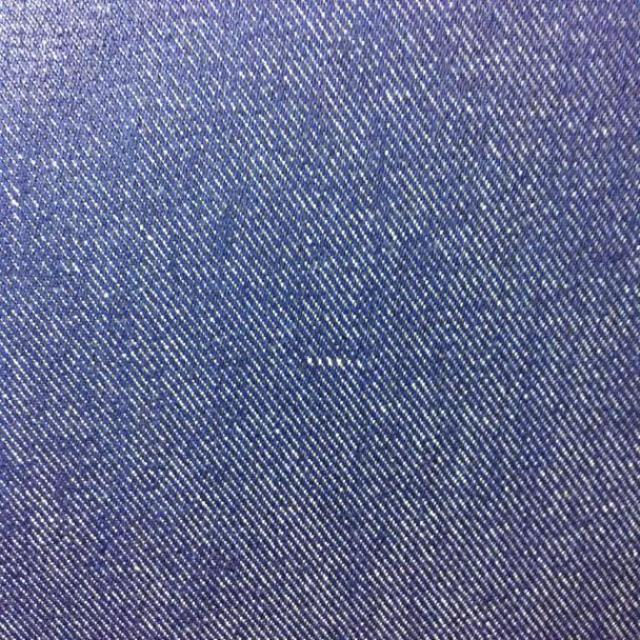Knot: (303, 356, 364, 372)
